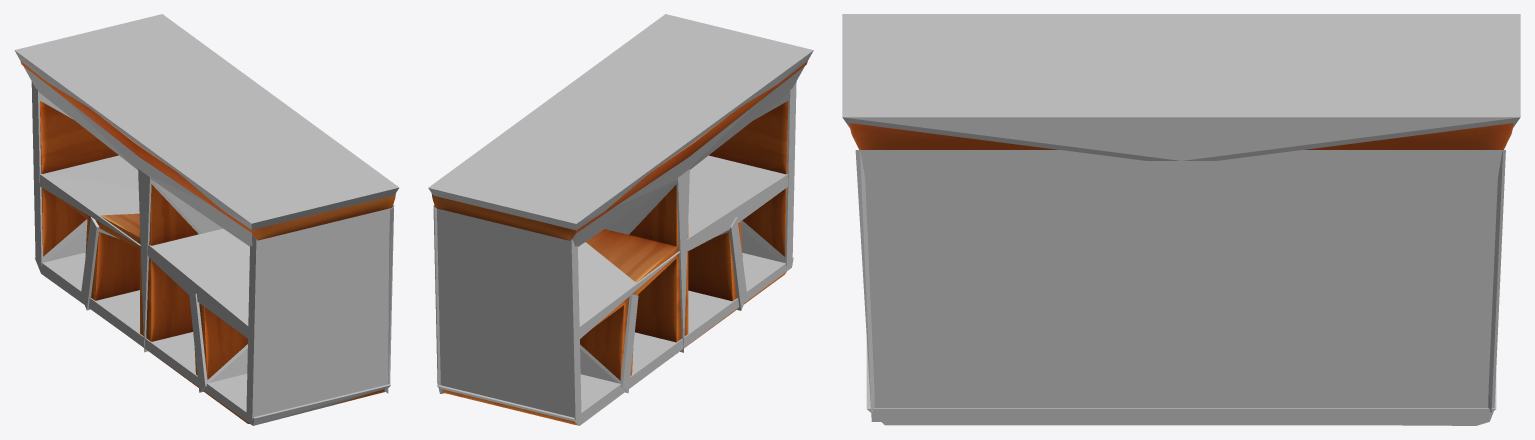
The model's file is SM_KitchenFurniture01_4.fbx.
The picture shows the model from 3 angles, left to right: view 1: azimuth 30°, elevation 25°; view 2: azimuth 150°, elevation 25°; view 3: azimuth 270°, elevation 25°; orthographic projection. The views are drawn at different scales.
Parts seen in each view (by area): view 1: SM_KitchenFurniture01_4_ConvexHulls, SM_KitchenFurniture01_4; view 2: SM_KitchenFurniture01_4_ConvexHulls, SM_KitchenFurniture01_4; view 3: SM_KitchenFurniture01_4_ConvexHulls, SM_KitchenFurniture01_4.
Boxes of the visible parts, x1,y1,x2,y2 form: SM_KitchenFurniture01_4_ConvexHulls: [14, 14, 399, 425]; SM_KitchenFurniture01_4: [20, 61, 395, 423]; SM_KitchenFurniture01_4_ConvexHulls: [428, 14, 813, 425]; SM_KitchenFurniture01_4: [431, 61, 807, 424]; SM_KitchenFurniture01_4_ConvexHulls: [842, 14, 1520, 425]; SM_KitchenFurniture01_4: [848, 123, 1514, 149].
Size of the model in its own units: 47.12 by 130 by 66.03.
2 materials, 1 textured.
